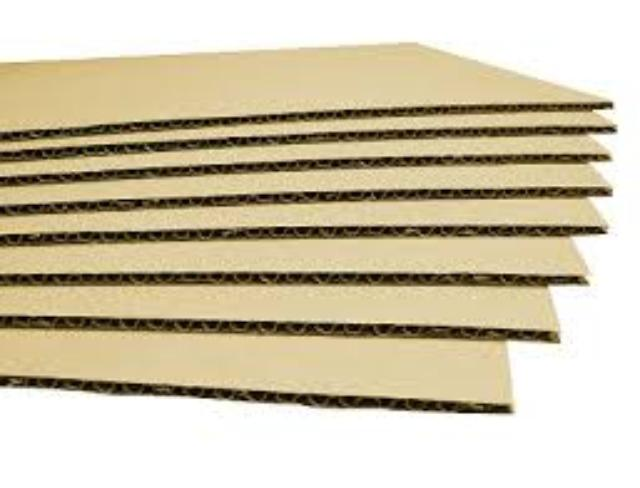cardboard paper: (0, 42, 610, 406)
